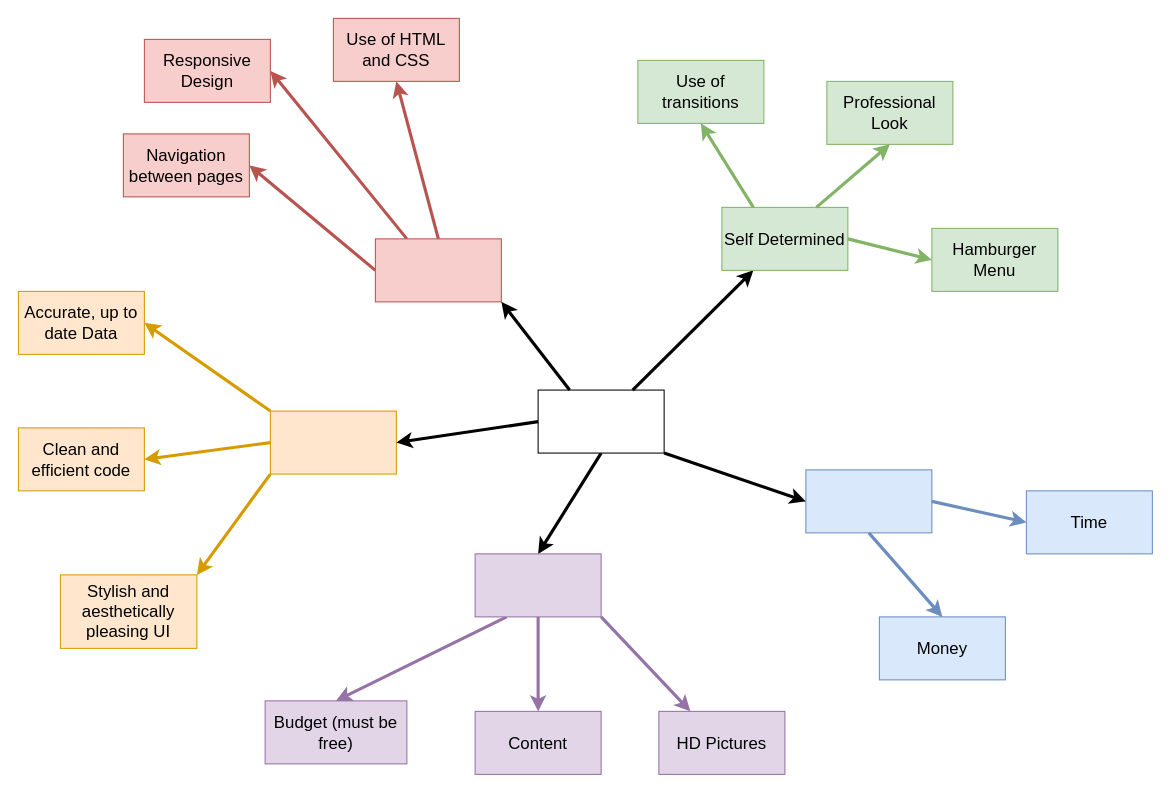
This 1171x793 diagram has some shape labels left out. Each missing label, with the box of its shape:
Constraints: (805, 469, 932, 533)
FA1 Basketball Website: (537, 389, 664, 453)
Functional Requirement: (269, 410, 396, 474)
Non-functional requirements: (474, 553, 601, 617)
Prescribed Criteria: (374, 238, 501, 302)
